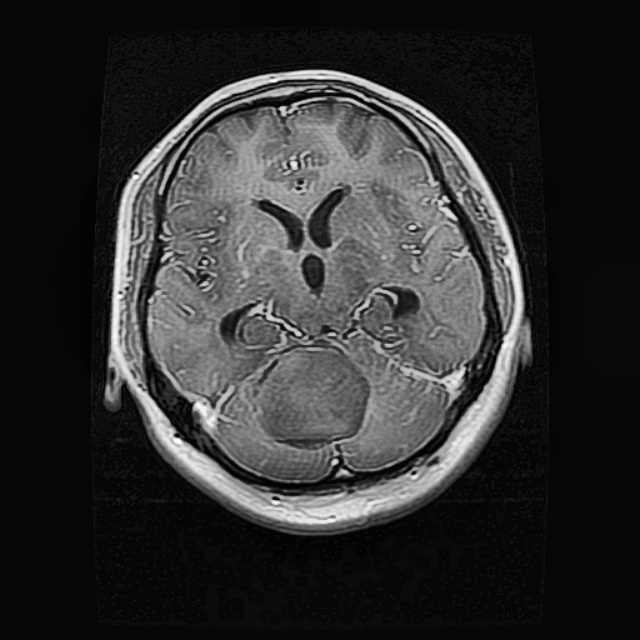Glioma: (259, 343, 358, 444)
